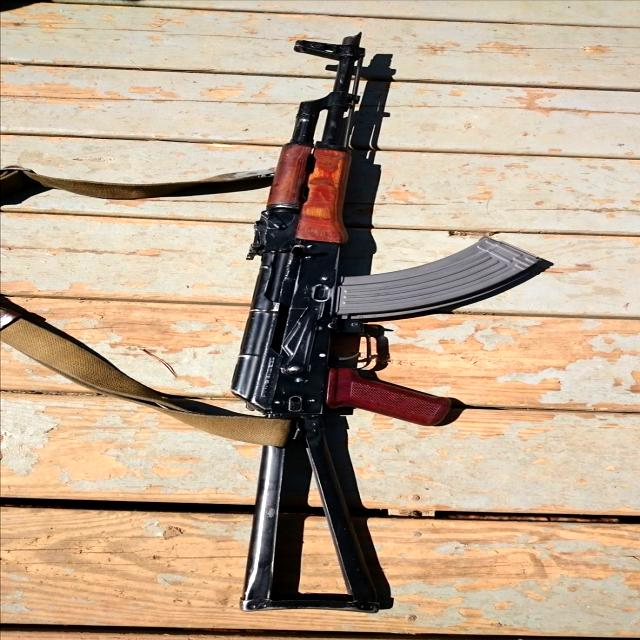ak: (203, 26, 572, 624)
